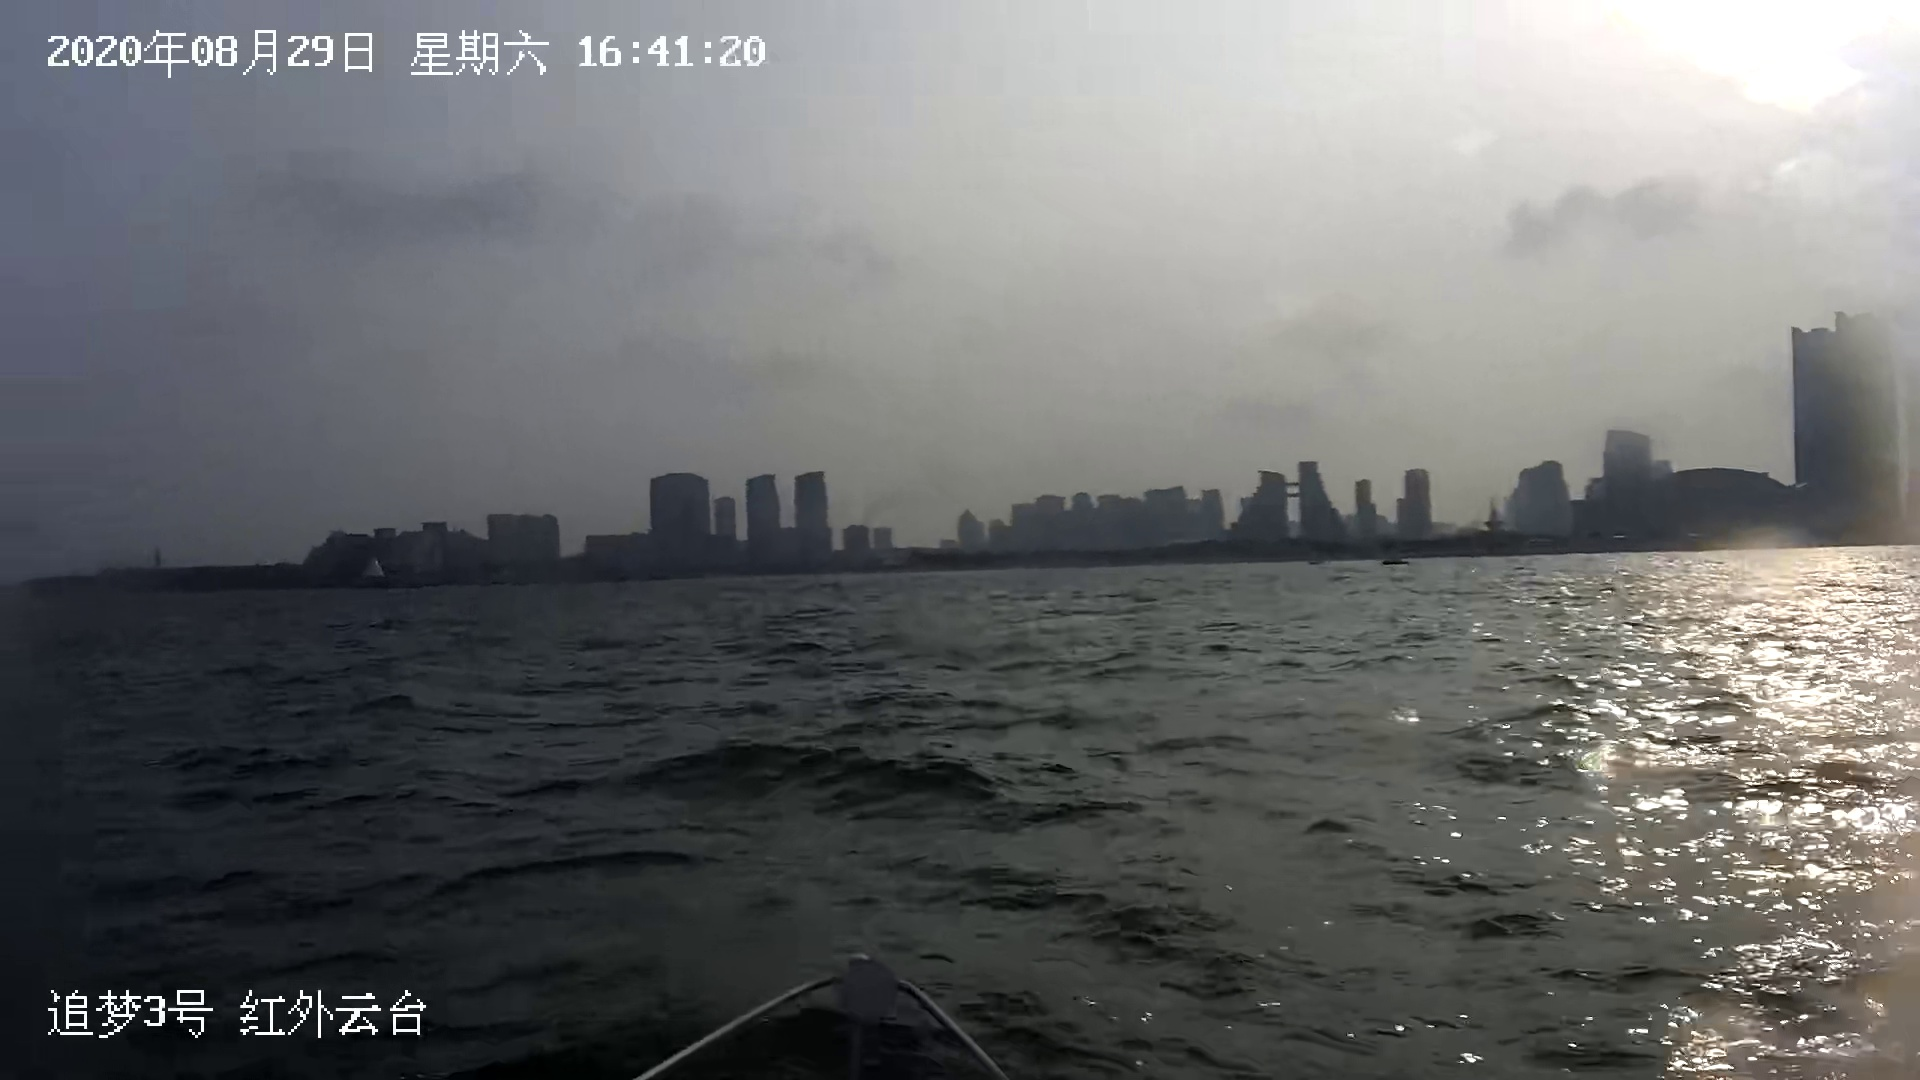coast: (28, 309, 1920, 596)
